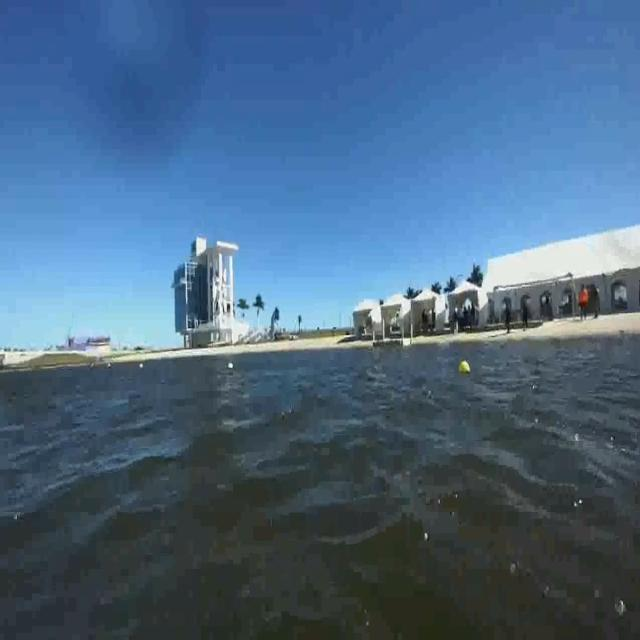yellow-buoy: (458, 356, 471, 376)
